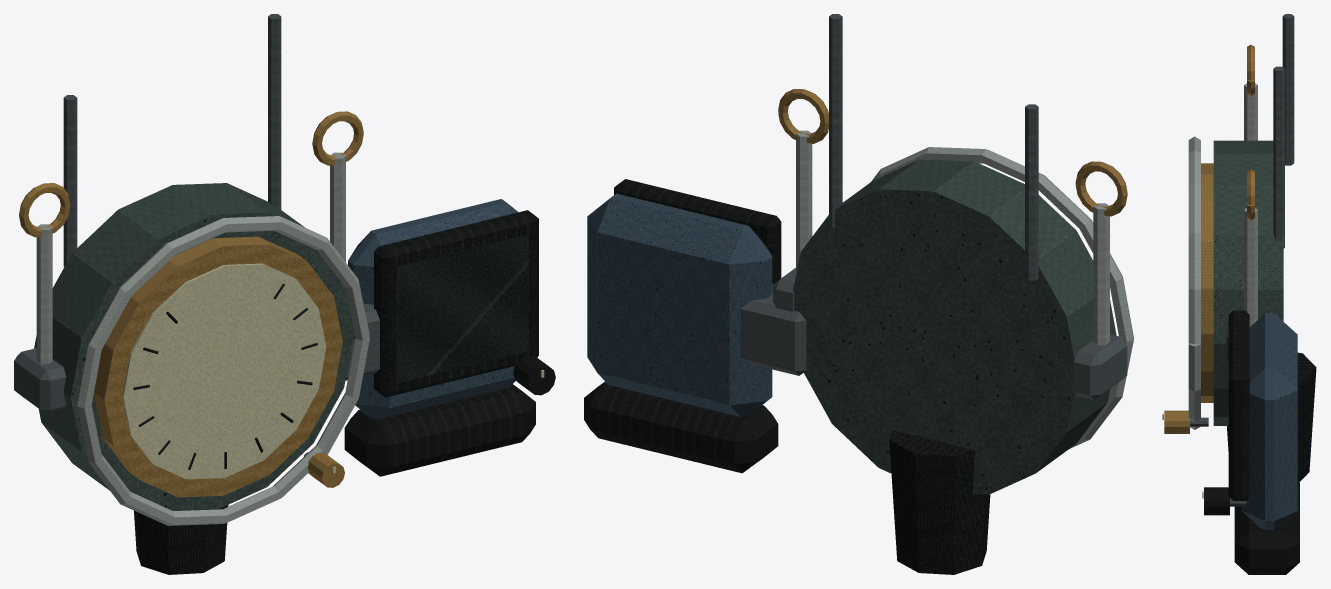
File: blender_anchor_triangulator_3.glb
3 views of the same model, side by side, from view 1: azimuth 30°, elevation 25°; view 2: azimuth 150°, elevation 25°; view 3: azimuth 270°, elevation 25° (orthographic). The views are drawn at different scales.
Visible parts, largest first — view 1: blender_anchor_triangulator_3; view 2: blender_anchor_triangulator_3; view 3: blender_anchor_triangulator_3.
Part boxes in pixels (x1,y1,x2,y2): blender_anchor_triangulator_3: [14, 14, 555, 574]; blender_anchor_triangulator_3: [584, 14, 1133, 574]; blender_anchor_triangulator_3: [1162, 14, 1316, 574].
Bounding box in the file's own units: 0.223 × 0.21 × 0.0658.
Materials: 9 (9 with a texture image).
